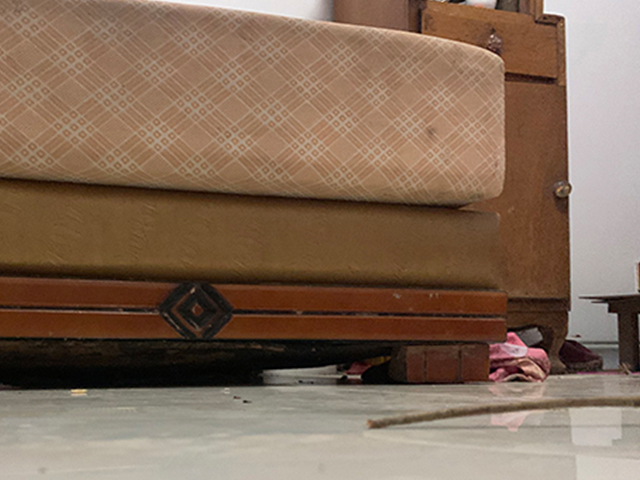cabinet: (499, 1, 574, 373)
sofa: (1, 1, 508, 385)
